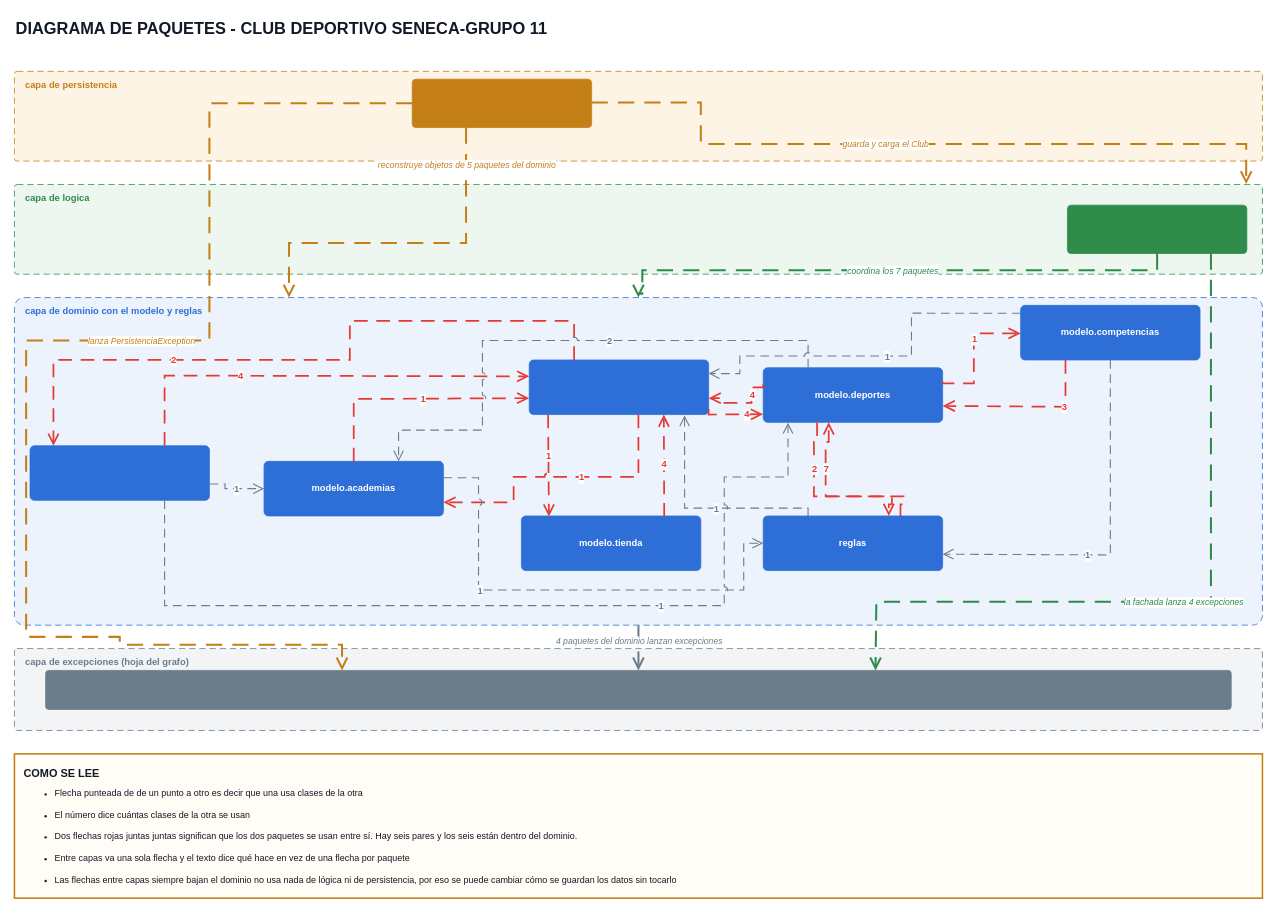
Image size: 1276x912. Some labels were removed from this diagram. The shapes that lost their labels are listed below. From the top down, each one's centre as x and y in pixels, then its label:
At (x=501, y=103): "persistencia".
At (x=1157, y=229): "logica".
At (x=618, y=387): "modelo.personas".
At (x=119, y=472): "modelo.entrenamiento".
At (x=638, y=689): "excepciones".
